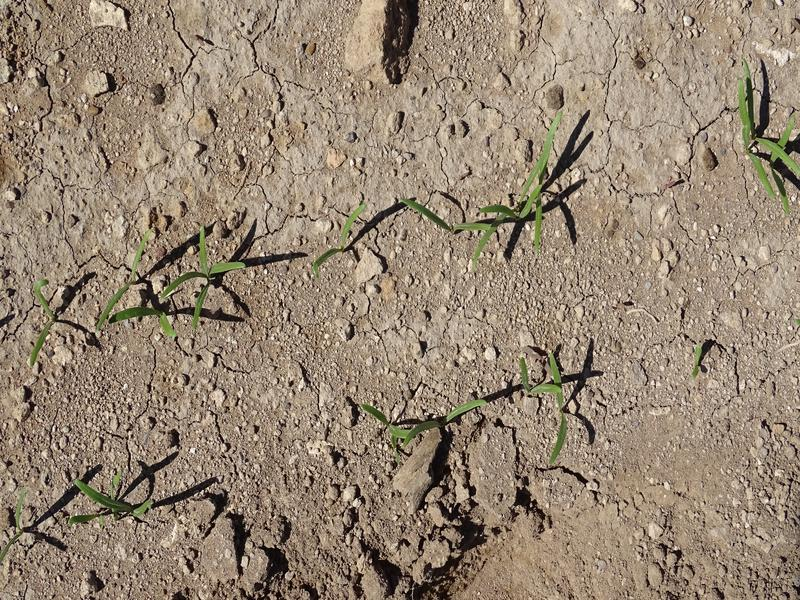Espinaca: (400, 115, 566, 264), (94, 223, 242, 337), (730, 66, 798, 208), (515, 353, 588, 461), (354, 389, 492, 442), (67, 472, 162, 524), (307, 201, 370, 277), (23, 274, 64, 366), (1, 485, 38, 559)
